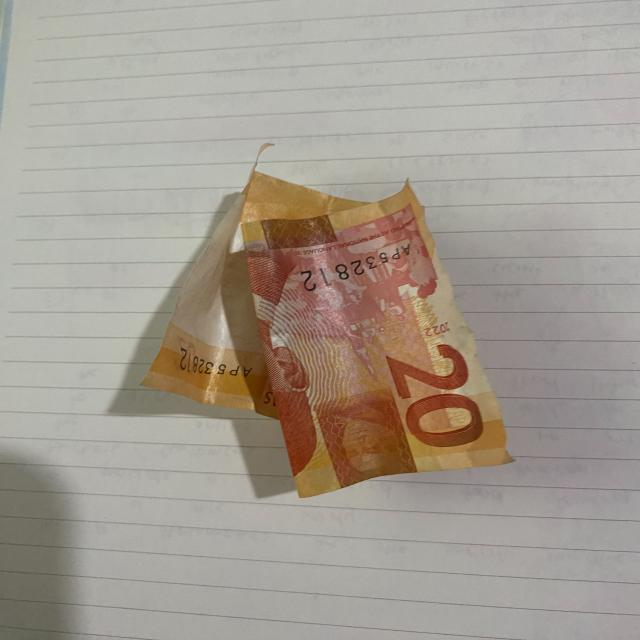concealed_value: (314, 390, 417, 488)
serial_number: (294, 233, 428, 300), (172, 333, 265, 381)
value: (371, 333, 497, 453)
